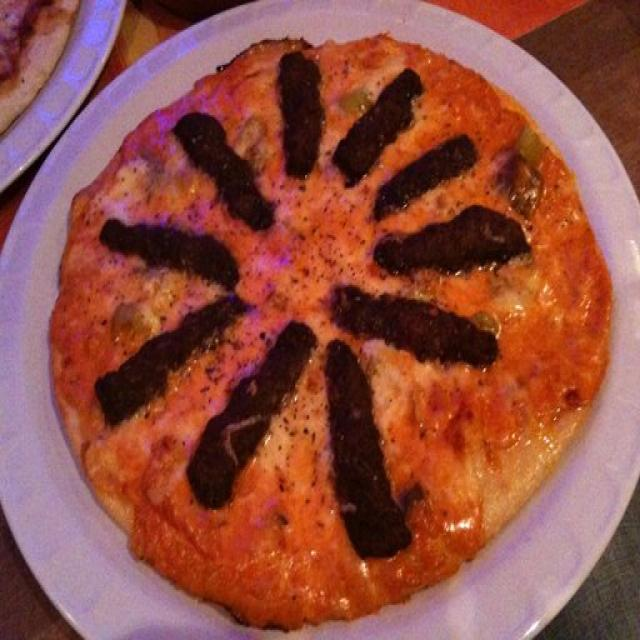Beef: (186, 324, 313, 508), (91, 295, 246, 423), (315, 341, 406, 546), (327, 285, 497, 369), (94, 213, 238, 301), (175, 113, 274, 235), (328, 70, 426, 186), (376, 205, 521, 278), (368, 134, 478, 224), (277, 51, 322, 173)
Pizza: (51, 35, 611, 628)
